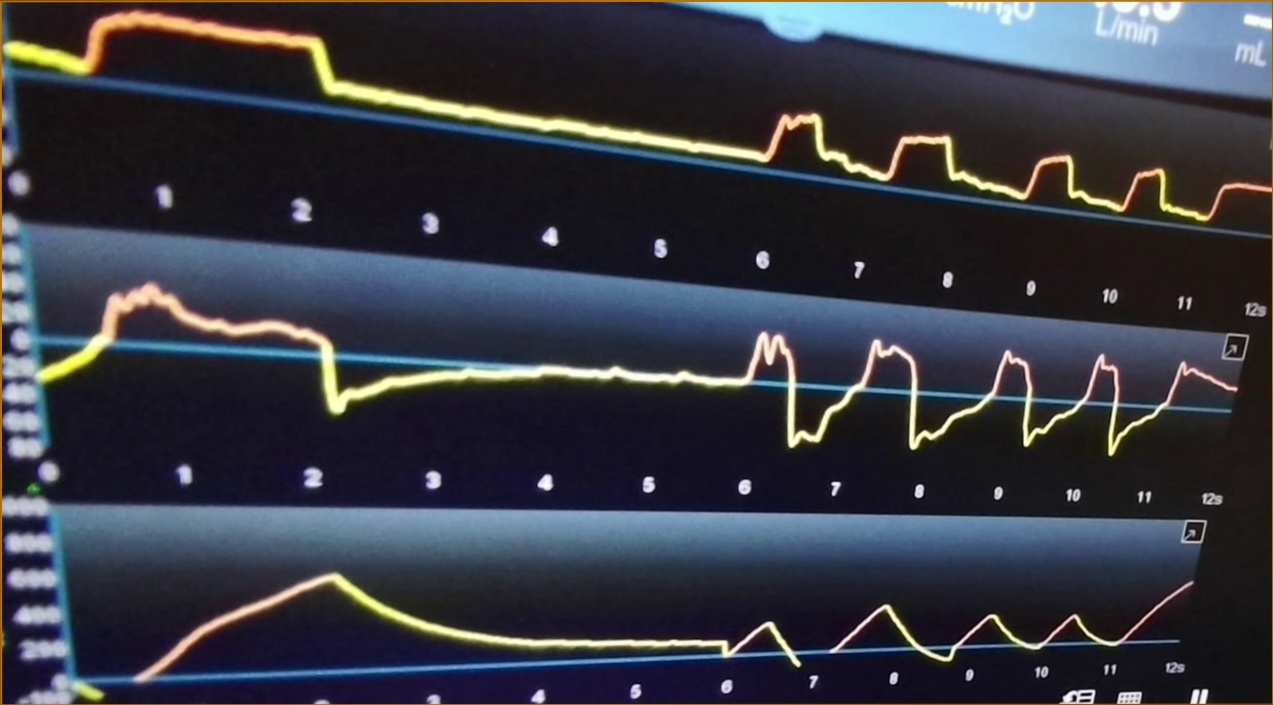Accumulation Flow: (46, 285, 1233, 458)
Volume: (79, 548, 1182, 666)
